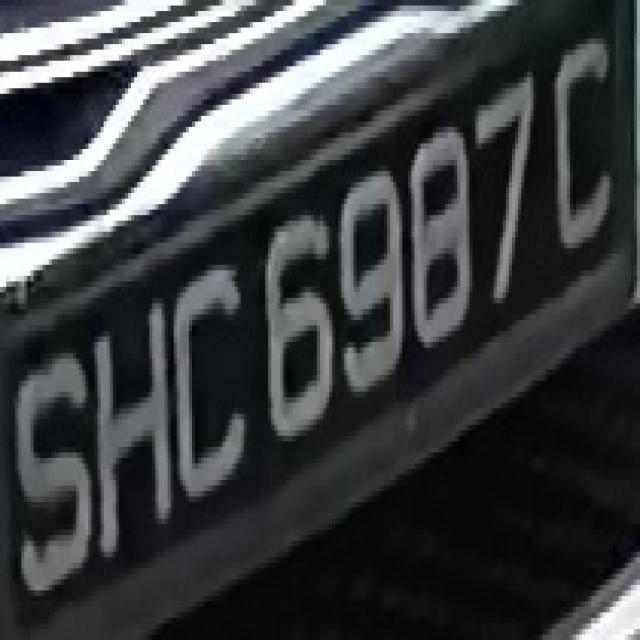6: (259, 204, 332, 458)
7: (470, 61, 540, 314)
8: (406, 115, 482, 358)
9: (332, 166, 408, 420)
C: (165, 243, 259, 513), (539, 17, 625, 260)
H: (85, 282, 180, 568)
S: (12, 331, 95, 618)
